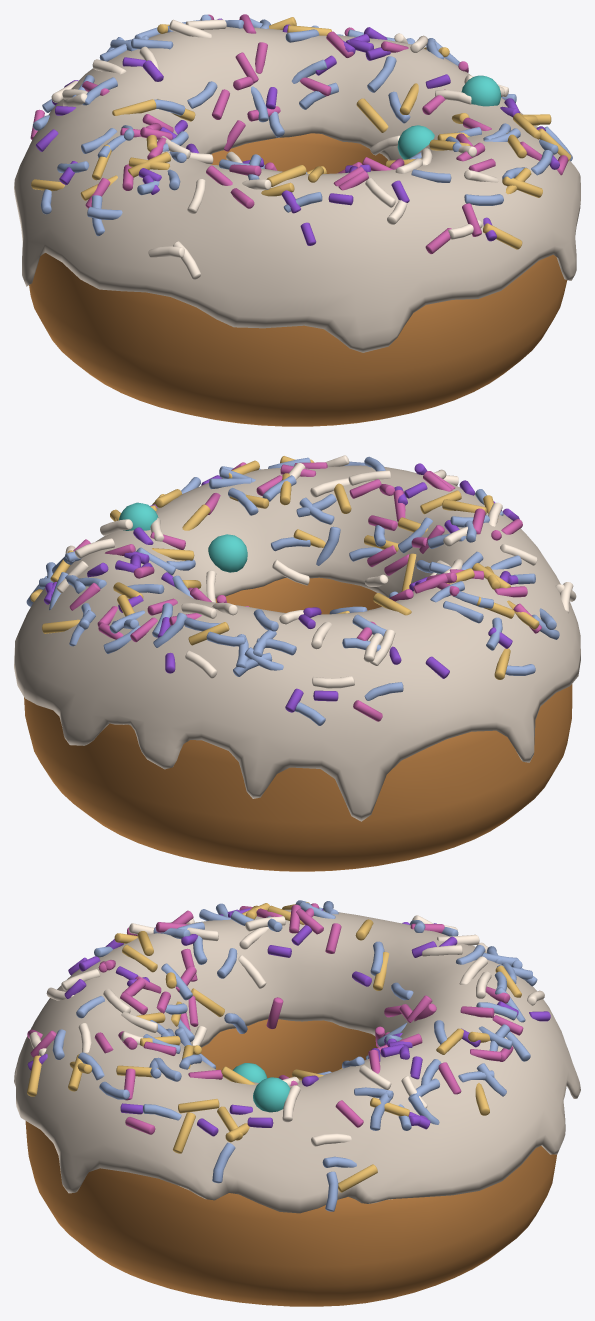
File: SM_donut_white.glb
3 views of the same model, one above another, from view 1: azimuth 30°, elevation 25°; view 2: azimuth 150°, elevation 25°; view 3: azimuth 270°, elevation 25° (orthographic). The views are drawn at different scales.
Visible parts, largest first — view 1: SM_donut_white; view 2: SM_donut_white; view 3: SM_donut_white.
Part boxes in pixels (x1,y1,x2,y2): SM_donut_white: (14, 14, 580, 426); SM_donut_white: (14, 455, 580, 871); SM_donut_white: (14, 900, 580, 1306).
Bounding box in the file's own units: 0.1732 × 0.084 × 0.172.
1 material, 1 textured.
